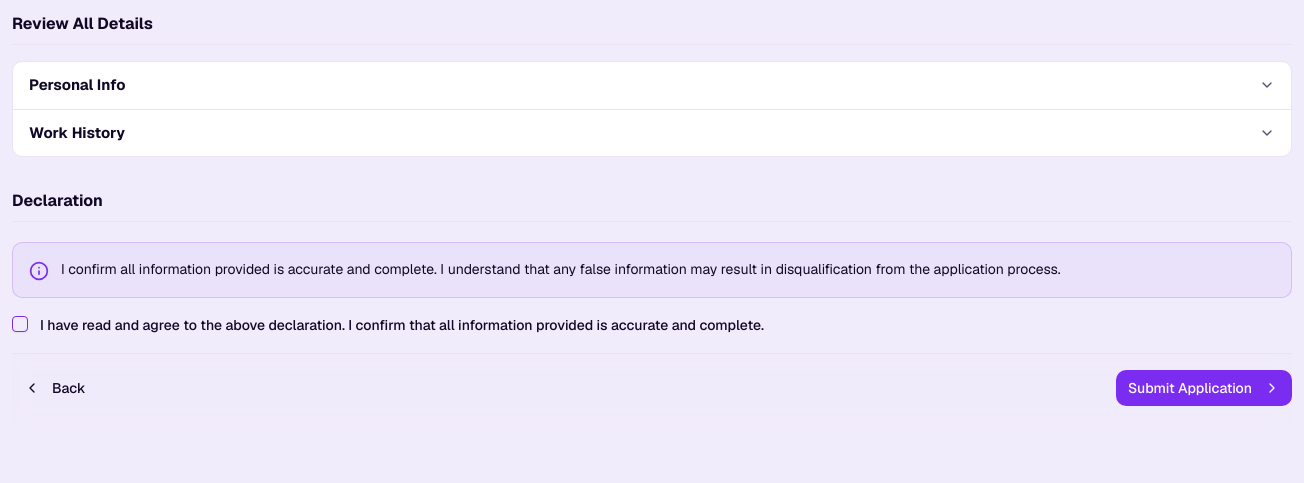
Test case: JobApplicationReviewStep › displays fallback error message on non-Error submit failure
Click the checkbox at (20, 324), box [12, 316, 28, 332]
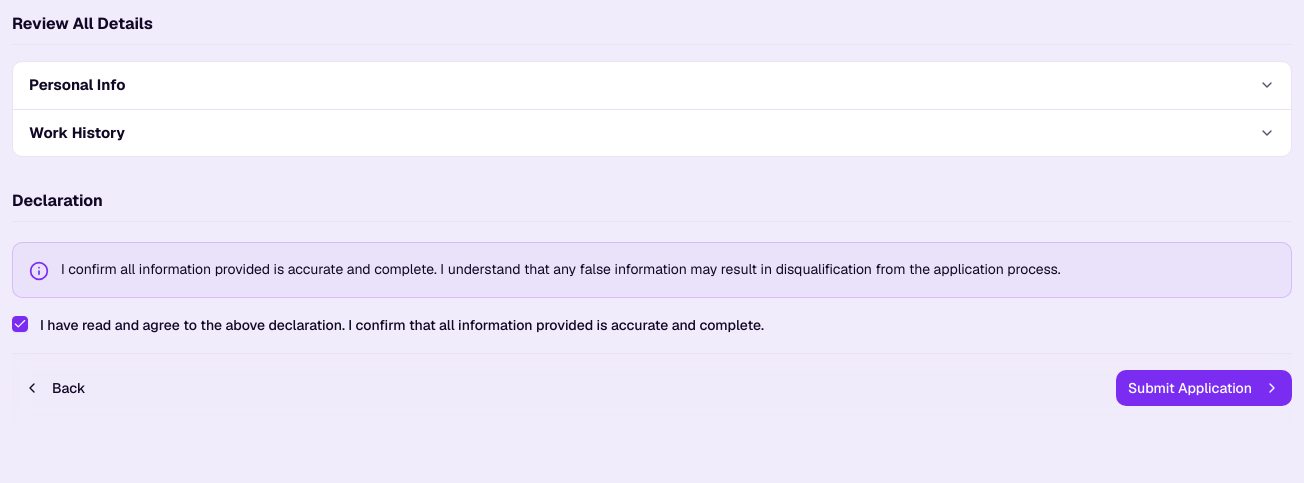
Click the button "Submit Application" at (1204, 388), box [1116, 370, 1292, 406]
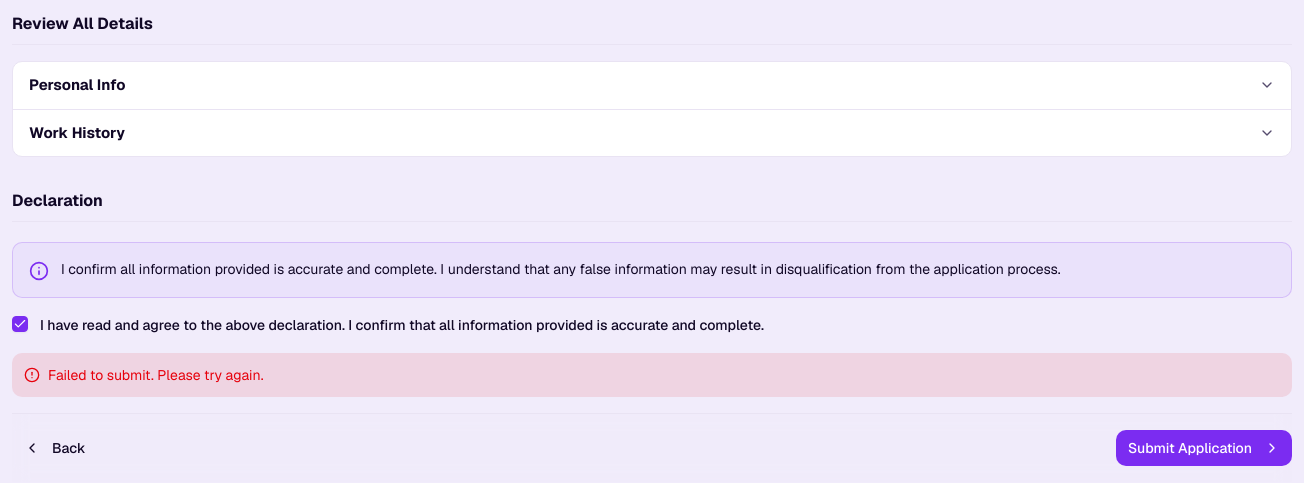
Expected: the text "Failed to submit. Please try again." is shown, [12, 353, 1292, 397]
